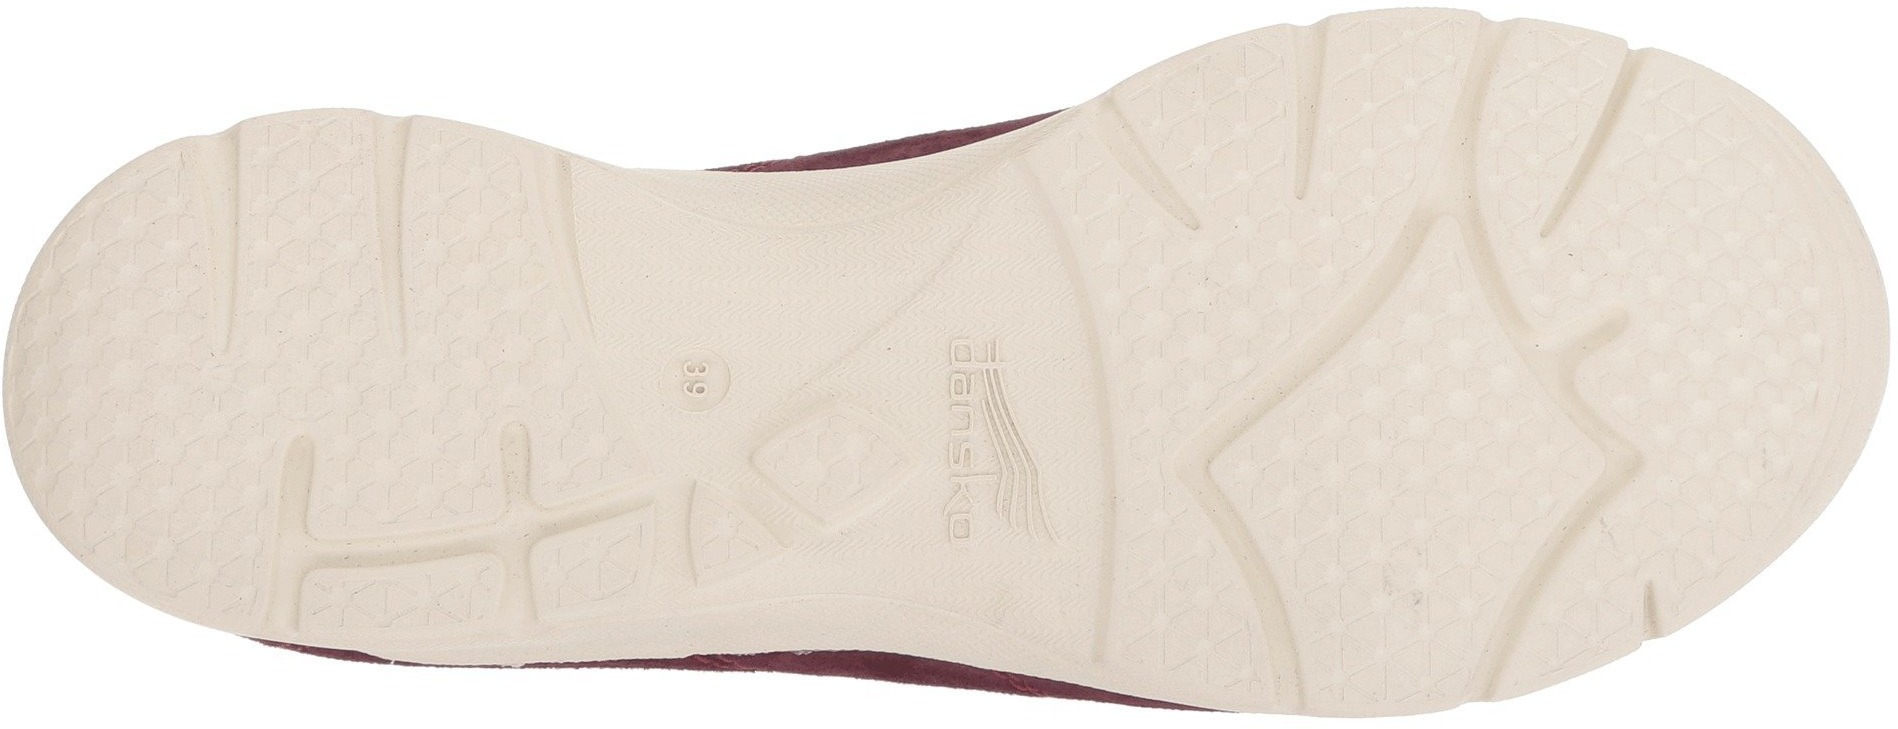chevron: (720, 233, 887, 383)
polygon: (1334, 388, 1512, 575)
text: (924, 427, 1026, 551), (924, 340, 1003, 420), (671, 345, 729, 412)
